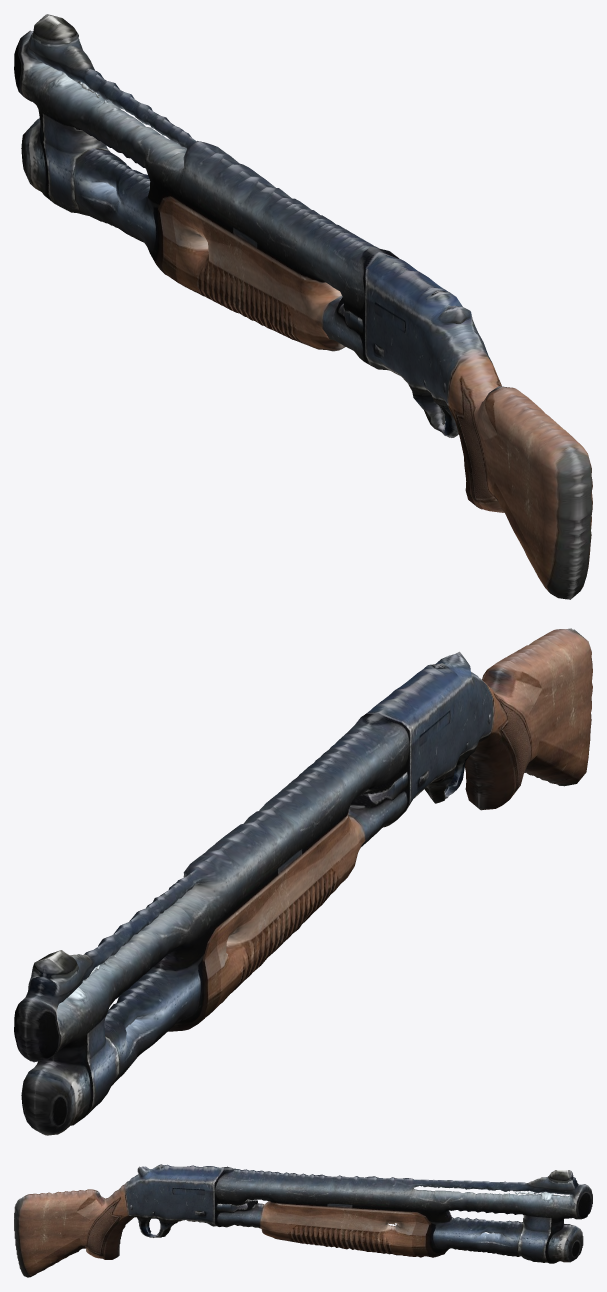
The model's file is pompe-arme.glb.
3 renders of one model, top to bottom at view 1: azimuth 30°, elevation 25°; view 2: azimuth 150°, elevation 25°; view 3: azimuth 270°, elevation 25°, orthographic. The views are drawn at different scales.
Parts seen in each view (by area): view 1: pompe-arme; view 2: pompe-arme; view 3: pompe-arme.
Boxes of the visible parts, box(x1,y1,x2,y2) form: pompe-arme: box(14, 14, 592, 599); pompe-arme: box(14, 628, 592, 1135); pompe-arme: box(14, 1164, 592, 1277).
Size of the model in its own units: 0.044 by 0.2006 by 0.9437.
Materials: 1 (1 with a texture image).
